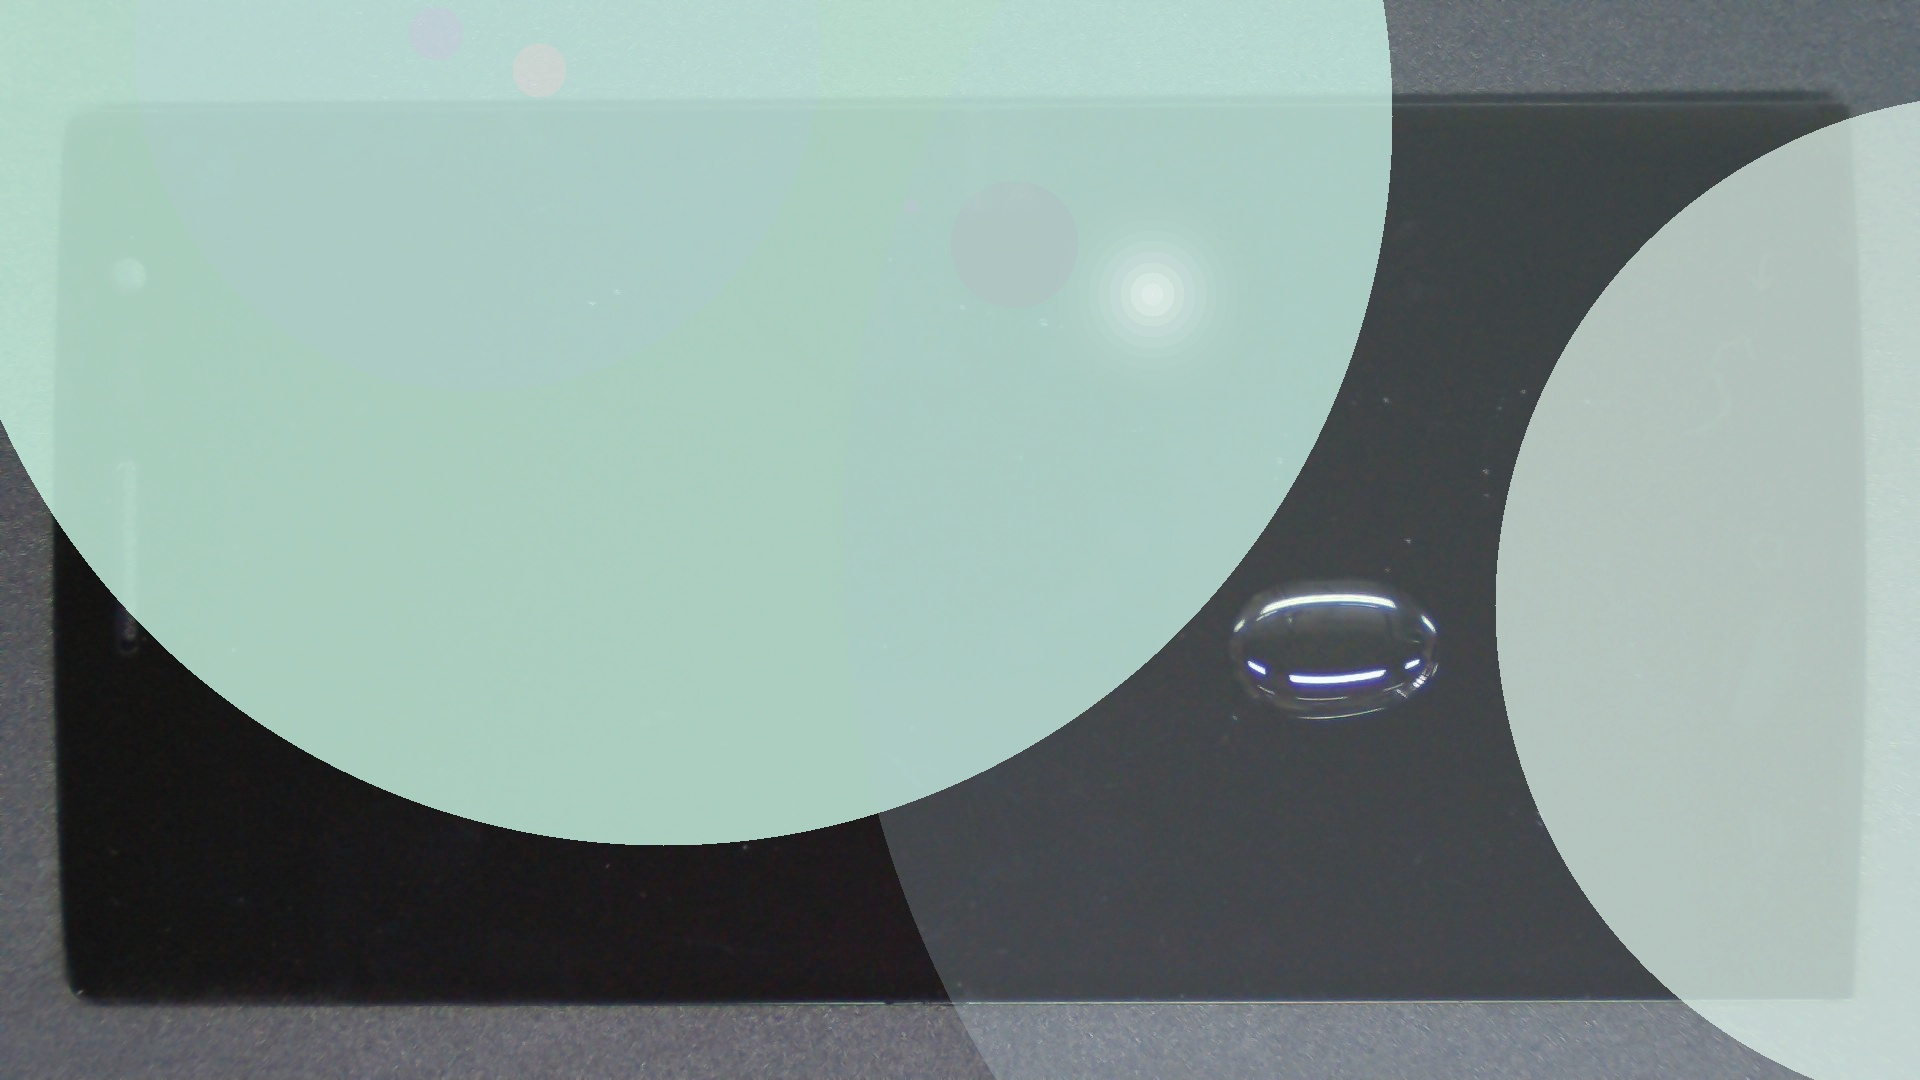oil: (646, 290, 1920, 870)
